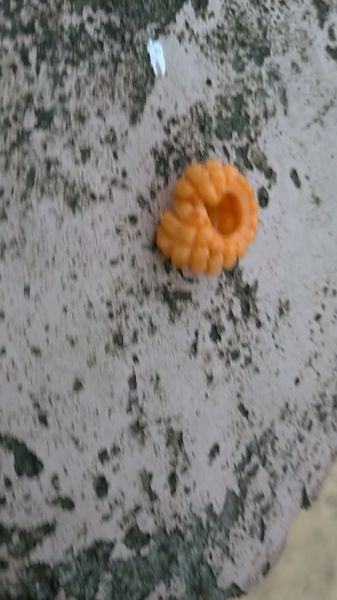eggs: (153, 151, 268, 278)
